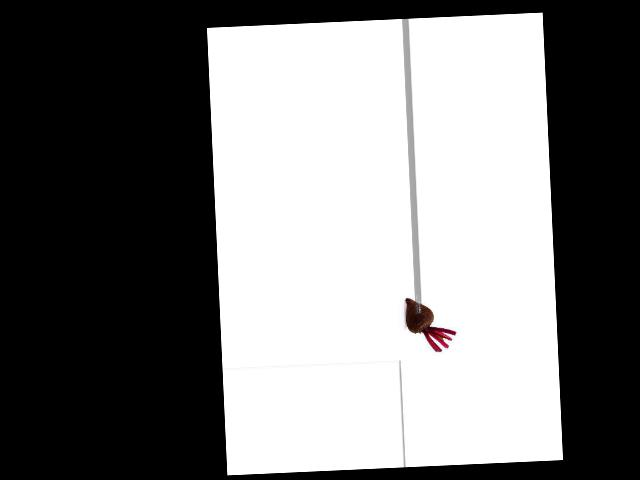beet: (404, 295, 456, 353)
